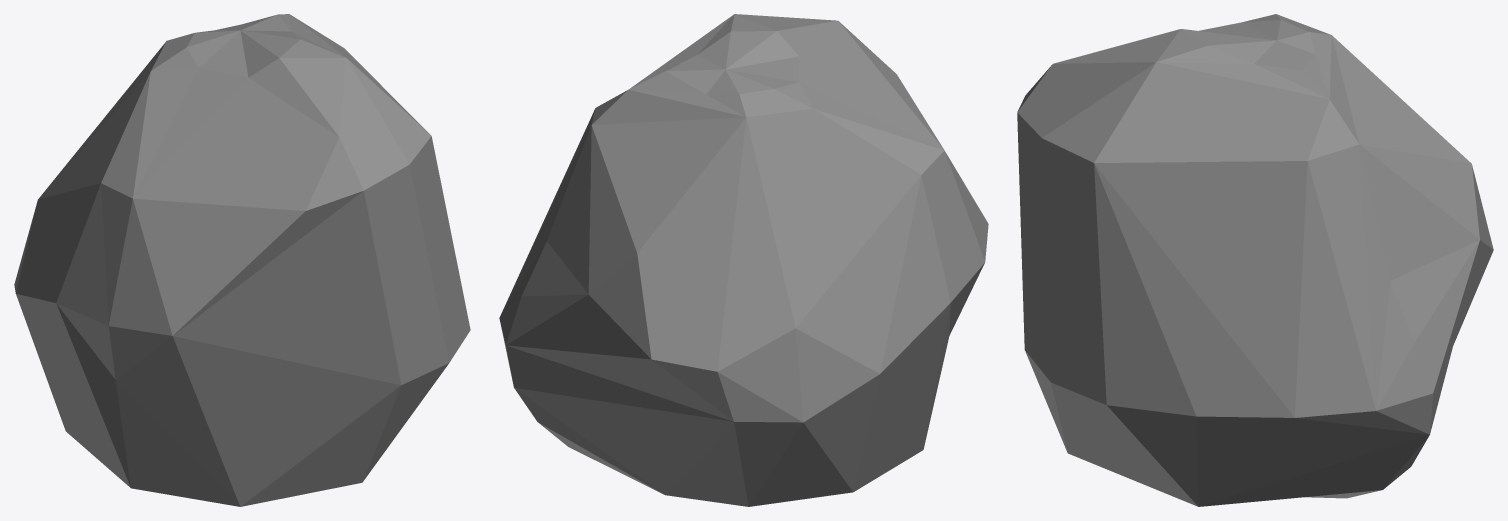
The model's file is Boulder 5.fbx.
3 views of the same model, side by side, from view 1: azimuth 30°, elevation 25°; view 2: azimuth 150°, elevation 25°; view 3: azimuth 270°, elevation 25° (orthographic). The views are drawn at different scales.
Visible parts, largest first — view 1: Boulder_5; view 2: Boulder_5; view 3: Boulder_5.
Boxes of the visible parts, <box> form: Boulder_5: <box>14,14,470,506</box>; Boulder_5: <box>499,14,988,506</box>; Boulder_5: <box>1017,14,1493,506</box>.
Bounding box in the file's own units: 204 × 200 × 200.
Materials: 1 (1 with a texture image).
